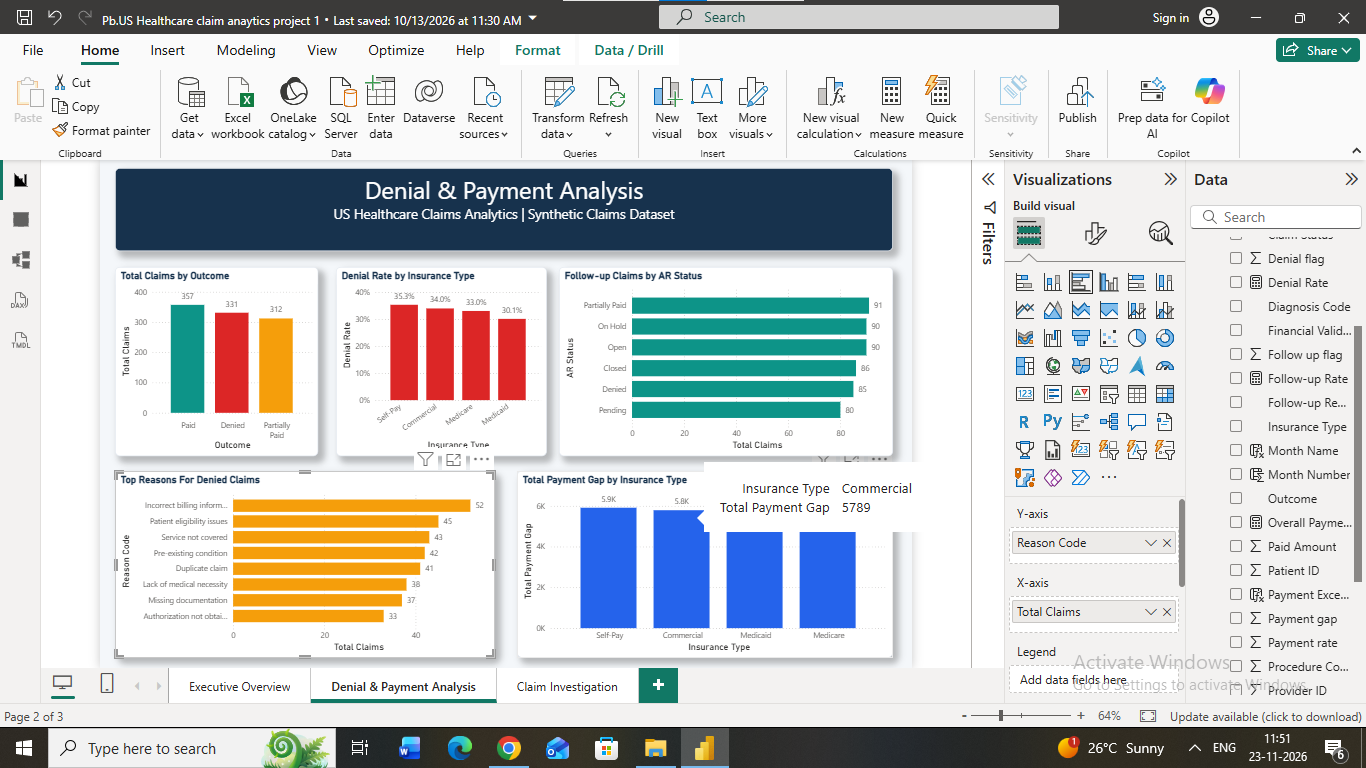

The dashboard page shown, as its layout file describes it:
{"tool":"powerbi","page":{"name":"Denial & Payment Analysis","canvas":[1280,800],"ordinal":1},"visuals":[{"type":"clusteredColumnChart","fields":{"Category":["claim_data.Outcome"],"Y":["claim_data.Total Claims"]},"box":[23.6,168.5,319.7,297.6],"z":0},{"type":"clusteredBarChart","title":"Top Reasons For Denied Claims","fields":{"Category":["claim_data.Reason Code"],"Y":["claim_data.Total Claims"]},"box":[23.6,489.8,598.4,294.5],"z":1000},{"type":"clusteredColumnChart","fields":{"Category":["claim_data.Insurance Type"],"Y":["claim_data.Denial Rate"]},"box":[371.7,168.5,332.3,297.6],"z":2000},{"type":"clusteredColumnChart","fields":{"Category":["claim_data.Insurance Type"],"Y":["claim_data.Total Payment Gap"]},"box":[656.7,489.8,592.1,294.5],"z":3000},{"type":"clusteredBarChart","title":"Follow-up Claims by AR Status","fields":{"Category":["claim_data.AR Status"],"Y":["claim_data.Total Claims"]},"box":[722.8,168.5,526,297.6],"z":4000},{"type":"textbox","box":[23.6,12.6,1225.2,130.7],"z":5000}]}

Visuals, with their boxes on the page's 1280x800 design canvas (x1, y1, x2, y2). These are canvas units, not pixel positions in the 1366x768 screenshot, which may show the page scaled, cropped or inside an application window:
clusteredColumnChart - claim_data.Outcome x claim_data.Total Claims: bbox=(24, 168, 343, 466)
"Top Reasons For Denied Claims" clusteredBarChart: bbox=(24, 490, 622, 784)
clusteredColumnChart - claim_data.Insurance Type x claim_data.Denial Rate: bbox=(372, 168, 704, 466)
clusteredColumnChart - claim_data.Insurance Type x claim_data.Total Payment Gap: bbox=(657, 490, 1249, 784)
"Follow-up Claims by AR Status" clusteredBarChart: bbox=(723, 168, 1249, 466)
textbox: bbox=(24, 13, 1249, 143)
